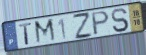1: (57, 18, 67, 40)
M: (33, 18, 58, 46)
P: (90, 10, 111, 37)
S: (111, 7, 130, 34)
T: (18, 21, 33, 46)
Z: (71, 12, 94, 41)
